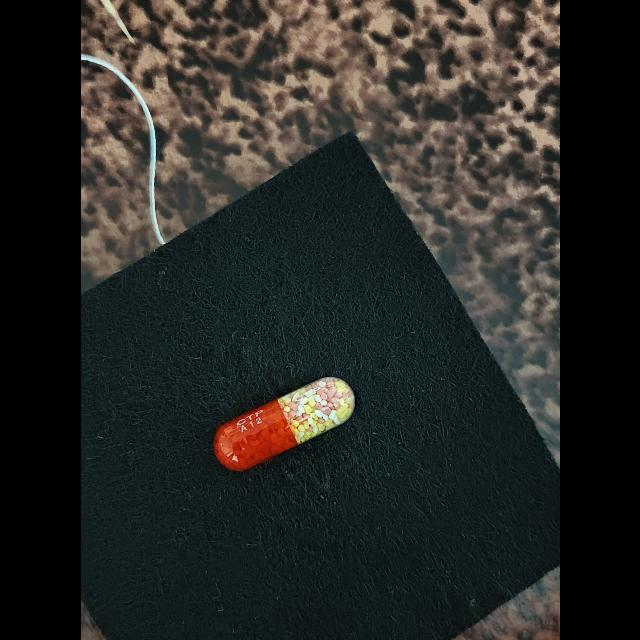Intact Capsule: (213, 376, 354, 471)
